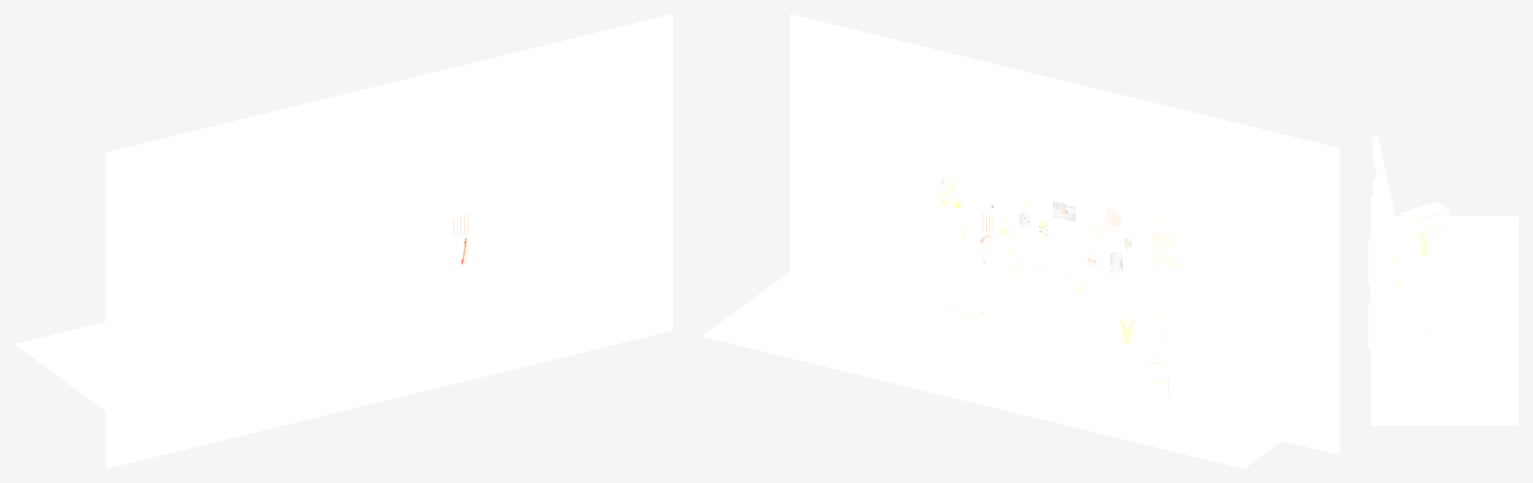
Rendered from Cabinet.0baa4c45.gltf.
3 renders of one model, left to right at view 1: azimuth 30°, elevation 25°; view 2: azimuth 150°, elevation 25°; view 3: azimuth 270°, elevation 25°, orthographic. The views are drawn at different scales.
Parts seen in each view (by area): view 1: wall, floor; view 2: wall, floor, desk, escalier, desk_haut, arche2, harpe, PianoBody_Cube.024, arche1, desk_bas, herbier-herbier, cadran_solaire-cadran; view 3: floor, PianoBody_Cube.024, desk, harpe, arche1, escalier, desk_haut, arche2, cordes, Loft NURBS.2, Low-Poly_Plant_.001_Cube.000, desk_bas (+1 smaller).
Boxes of the visible parts, left/top/right/bottom form: wall: left=105, top=14, right=672, bottom=468; floor: left=14, top=277, right=670, bottom=414; wall: left=790, top=14, right=1339, bottom=454; floor: left=701, top=269, right=1335, bottom=468; desk: left=961, top=272, right=1146, bottom=364; escalier: left=1132, top=184, right=1188, bottom=379; desk_haut: left=957, top=256, right=1149, bottom=312; arche2: left=1080, top=193, right=1141, bottom=296; harpe: left=916, top=223, right=973, bottom=326; PianoBody_Cube.024: left=1142, top=315, right=1195, bottom=406; arche1: left=978, top=170, right=1040, bottom=271; desk_bas: left=958, top=325, right=1144, bottom=371; herbier-herbier: left=935, top=164, right=963, bottom=214; cadran_solaire-cadran: left=1150, top=231, right=1177, bottom=267; floor: left=1371, top=216, right=1518, bottom=425; PianoBody_Cube.024: left=1399, top=202, right=1458, bottom=278; desk: left=1368, top=240, right=1408, bottom=348; harpe: left=1379, top=289, right=1413, bottom=369; arche1: left=1372, top=219, right=1385, bottom=301; escalier: left=1371, top=136, right=1399, bottom=238; desk_haut: left=1371, top=239, right=1409, bottom=305; arche2: left=1372, top=177, right=1385, bottom=218; cordes: left=1382, top=299, right=1406, bottom=357; Loft NURBS.2: left=1412, top=313, right=1434, bottom=336; Low-Poly_Plant_.001_Cube.000: left=1414, top=228, right=1431, bottom=258; desk_bas: left=1371, top=287, right=1410, bottom=352.
Bounding box in the file's own units: 15.69 × 8.37 × 4.69.
Materials: 27 (8 with a texture image).
